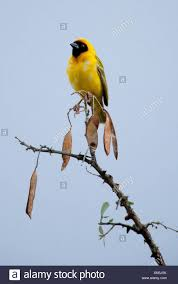target: (62, 35, 115, 114)
